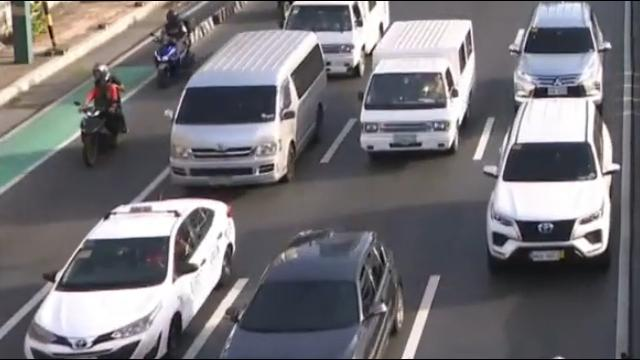car: (22, 198, 237, 360), (217, 231, 403, 360), (479, 99, 620, 269), (512, 2, 612, 109)
motorcycle: (73, 62, 125, 168), (150, 9, 192, 86)
van: (169, 30, 327, 187), (358, 18, 474, 157), (279, 2, 393, 72)
